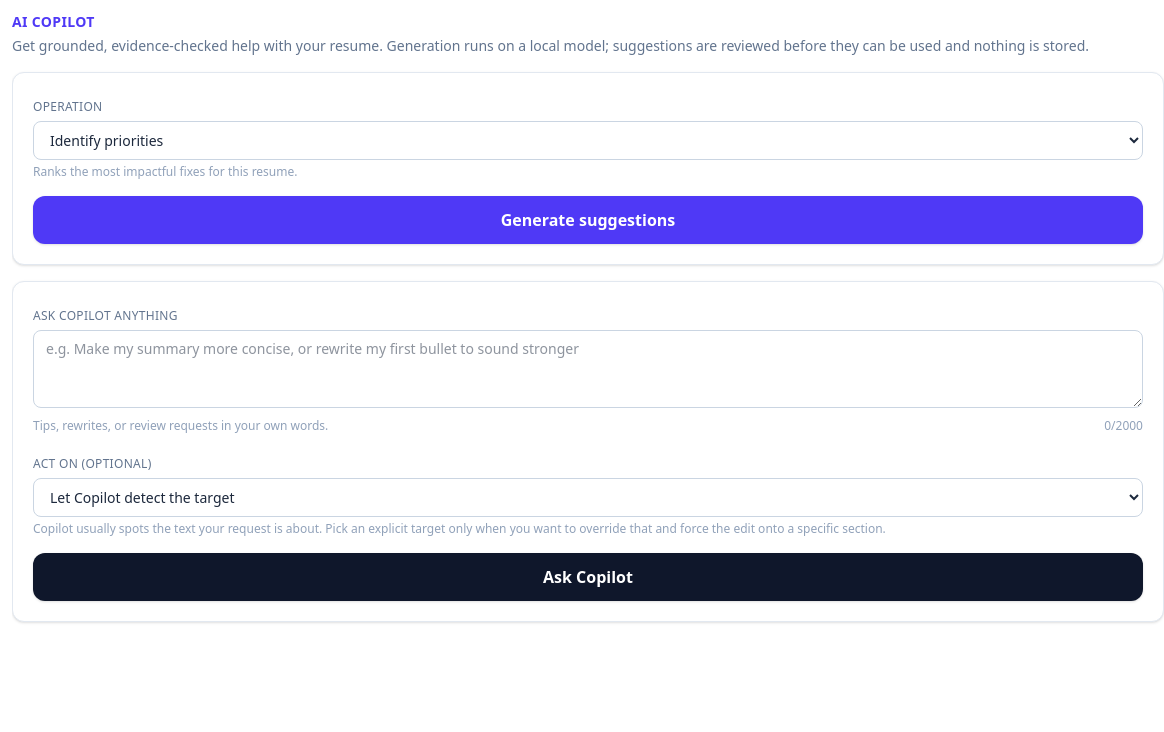
CopilotPanel free-text requests › shows a friendly message when a free-form request times out
The width and height of the screenshot is (1164, 732).
Step 1. Type "Rewrite my summary" into the text box named "Free-text request for Copilot" → (588, 369), box x1=33 y1=330 x2=1143 y2=408
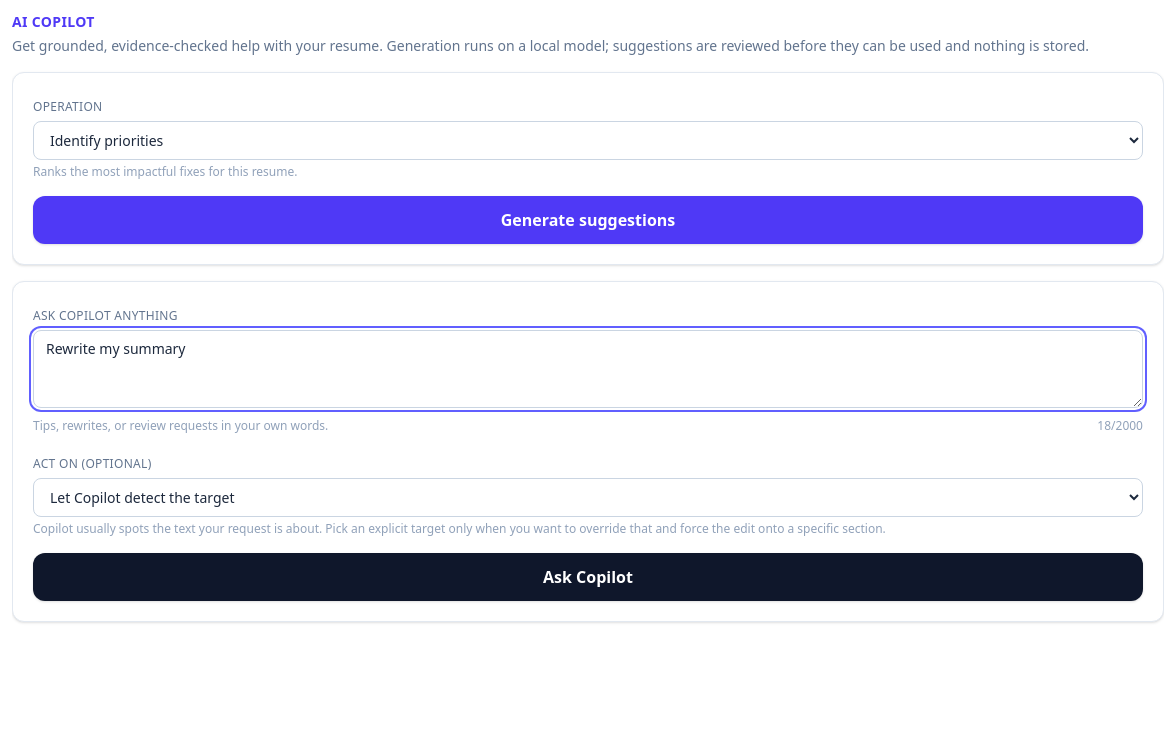
Step 2. Click the button "Ask Copilot" → (588, 577), box x1=33 y1=553 x2=1143 y2=601
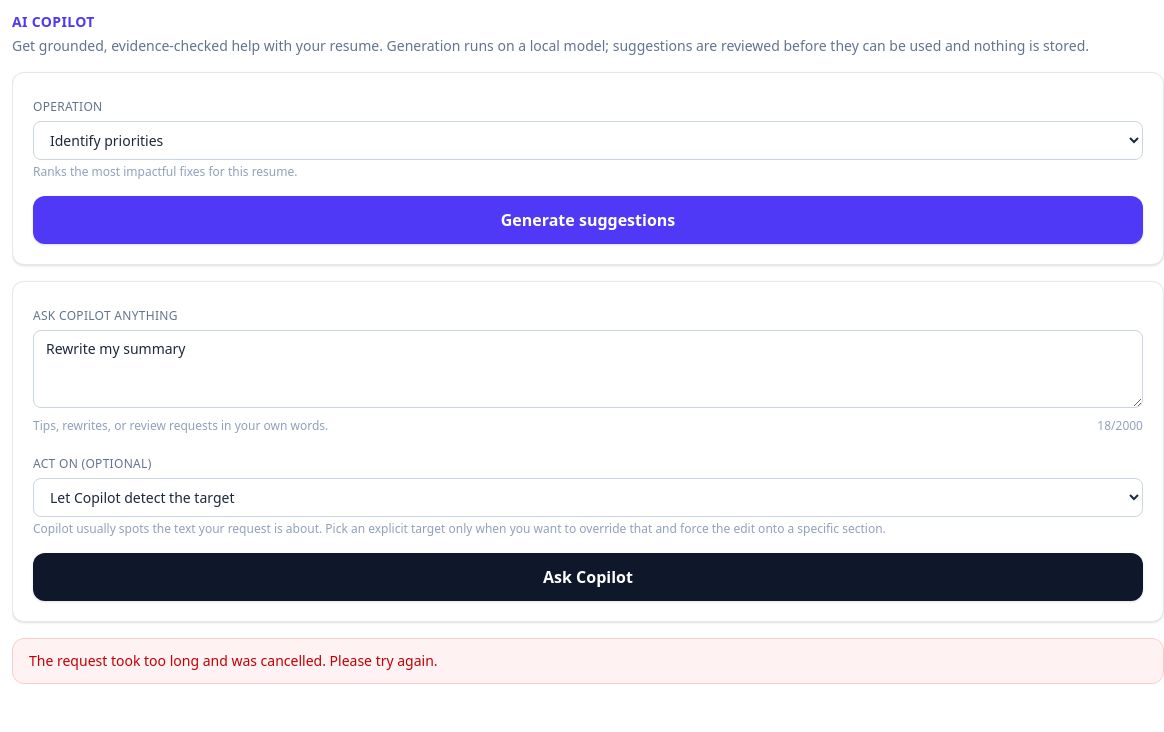
Expected: the text "The request took too long and was cancelled. Please try again." is shown, x1=12 y1=638 x2=1163 y2=684
